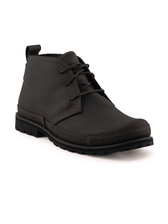shoes: (12, 43, 159, 154)
